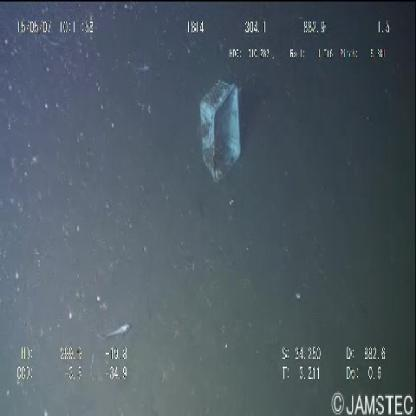Rác: (194, 70, 249, 186)
